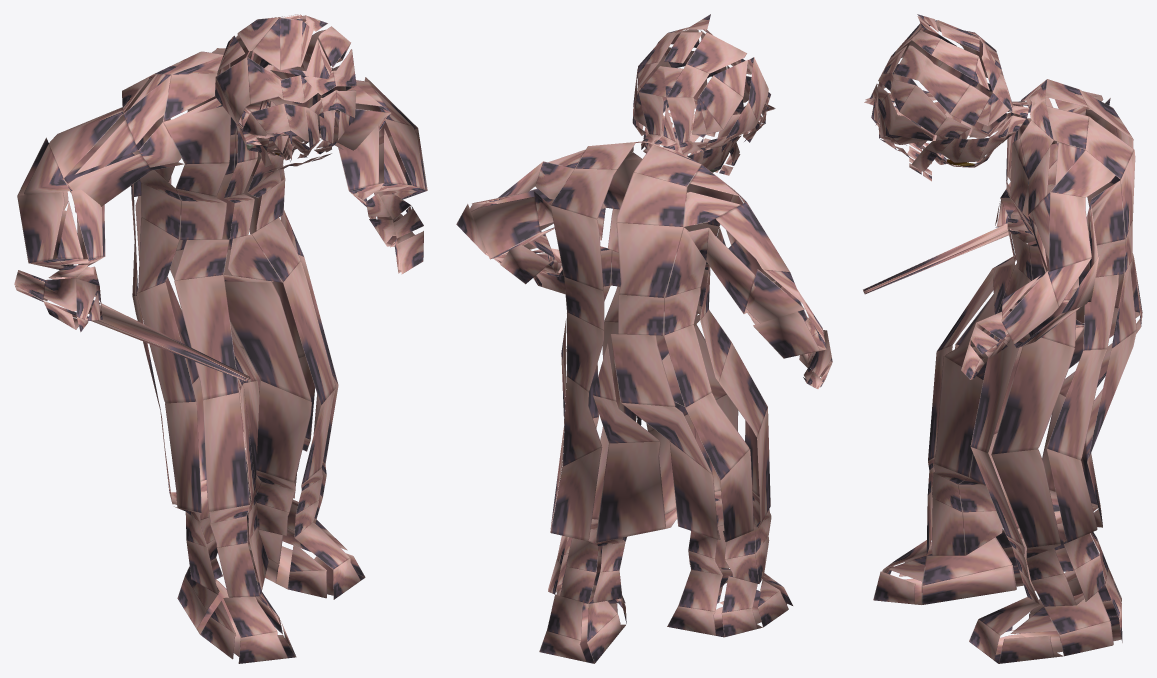
3 renders of one model, left to right at view 1: azimuth 30°, elevation 25°; view 2: azimuth 150°, elevation 25°; view 3: azimuth 270°, elevation 25°, orthographic. The views are drawn at different scales.
Parts seen in each view (by area): view 1: T1L1M008_1; view 2: T1L1M008_1; view 3: T1L1M008_1.
Part boxes in pixels (box(x1,y1,x2,y2)): T1L1M008_1: box(14, 14, 427, 663); T1L1M008_1: box(456, 14, 832, 663); T1L1M008_1: box(863, 14, 1142, 663).
Size of the model in its own units: 0.8199 by 1.23 by 0.5226.
